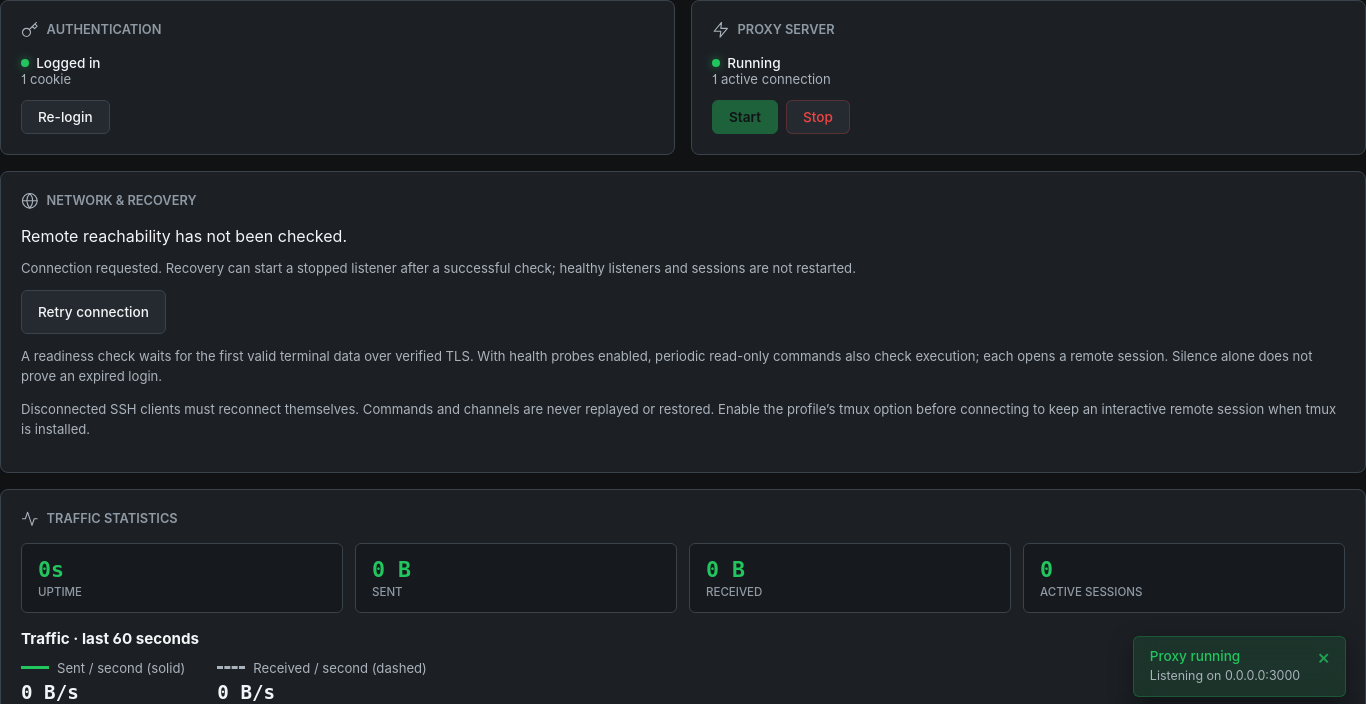
Test case: keeps Stop available while a recovery check is pending and accepts a cancelled round without error
Step 1. Click the button "Retry connection" → coordinates (93, 312), box [21,290,166,334]
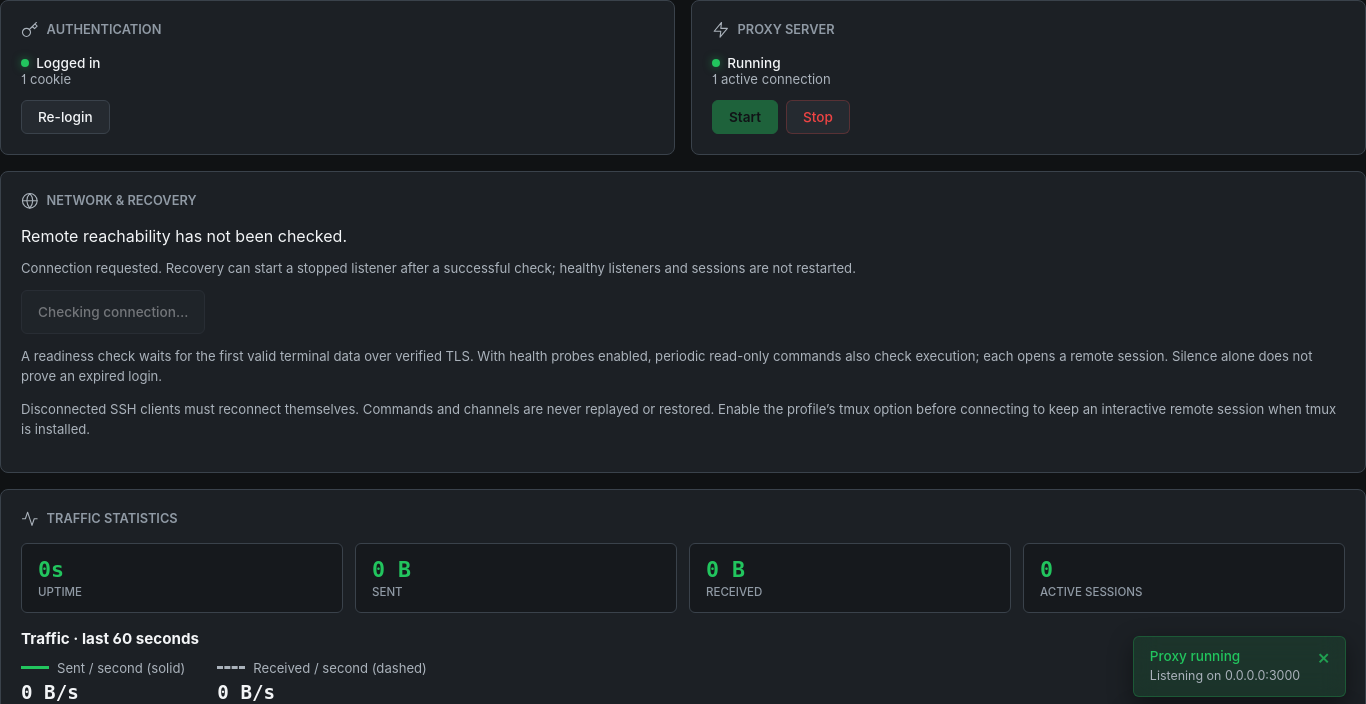
Expected: the button "Checking connection…" is disabled, [21,290,205,334]
Step 2. Click the button "Stop" → coordinates (818, 117), box [786,100,850,134]
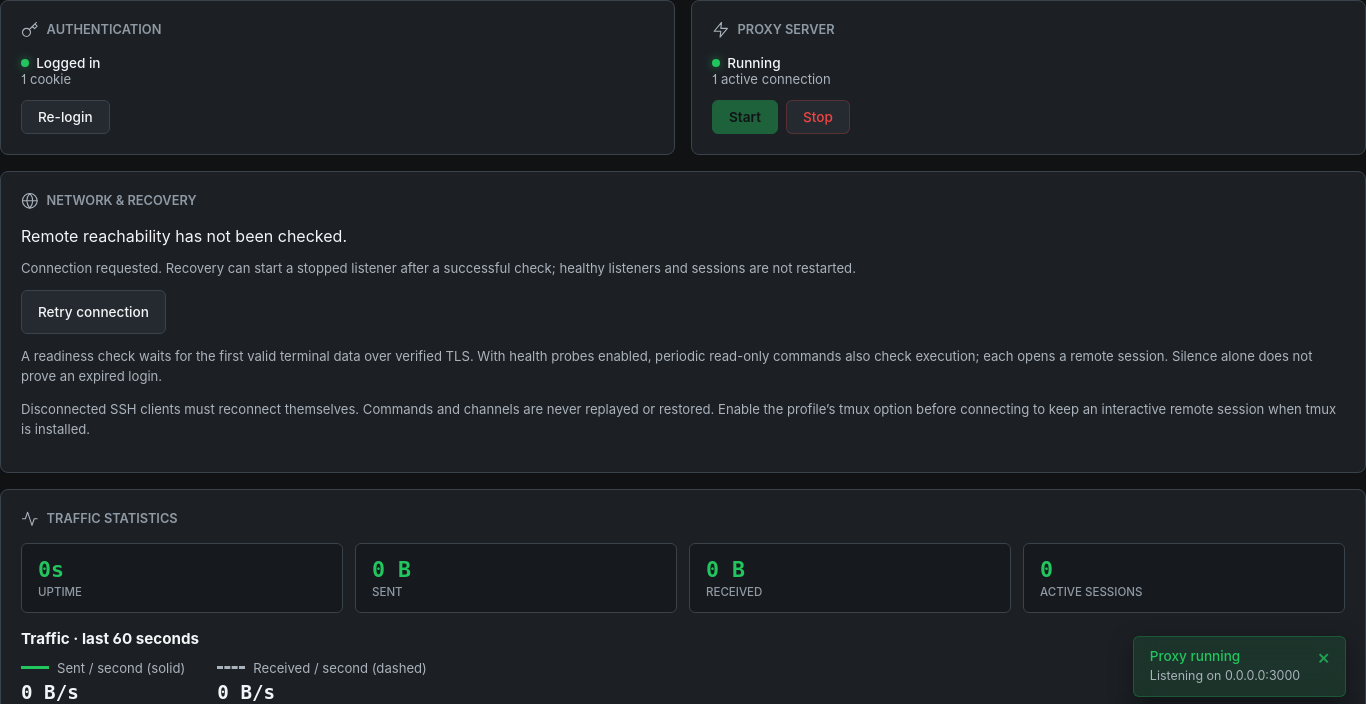
Expected: the button "Retry connection" is enabled, [21,290,166,334]
